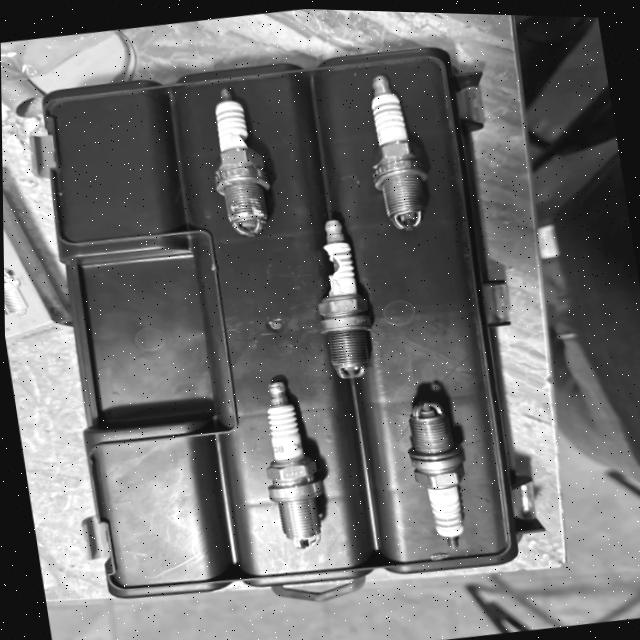damaged_spark-plug: (306, 211, 382, 383), (199, 79, 280, 238)
spark-plug: (242, 368, 330, 557), (396, 378, 480, 552), (354, 67, 439, 234)
